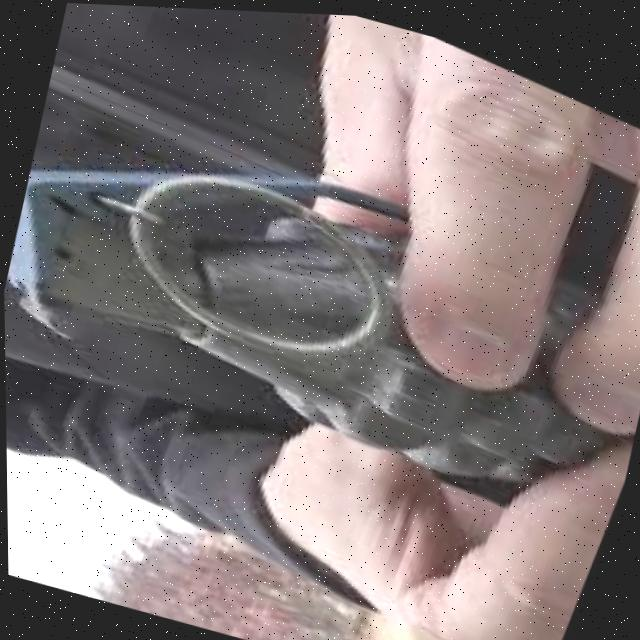grenade: (1, 46, 640, 565)
